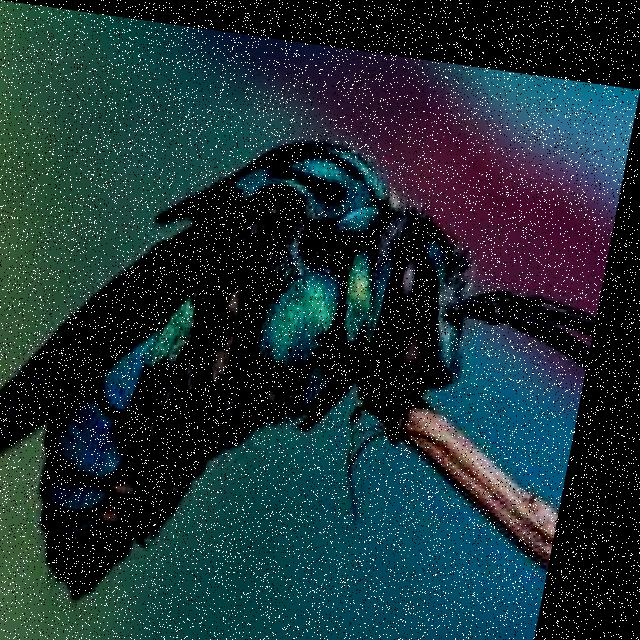Thyreus: (0, 31, 571, 640)
